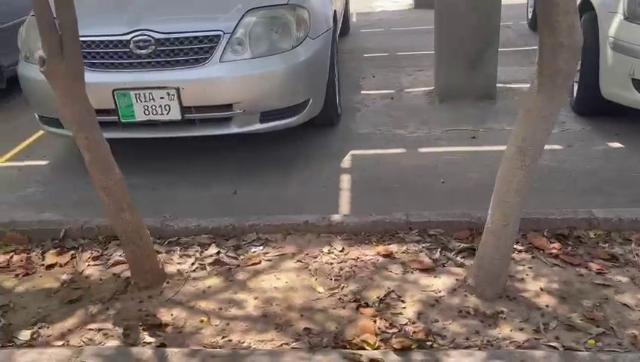plate: (110, 85, 185, 123)
